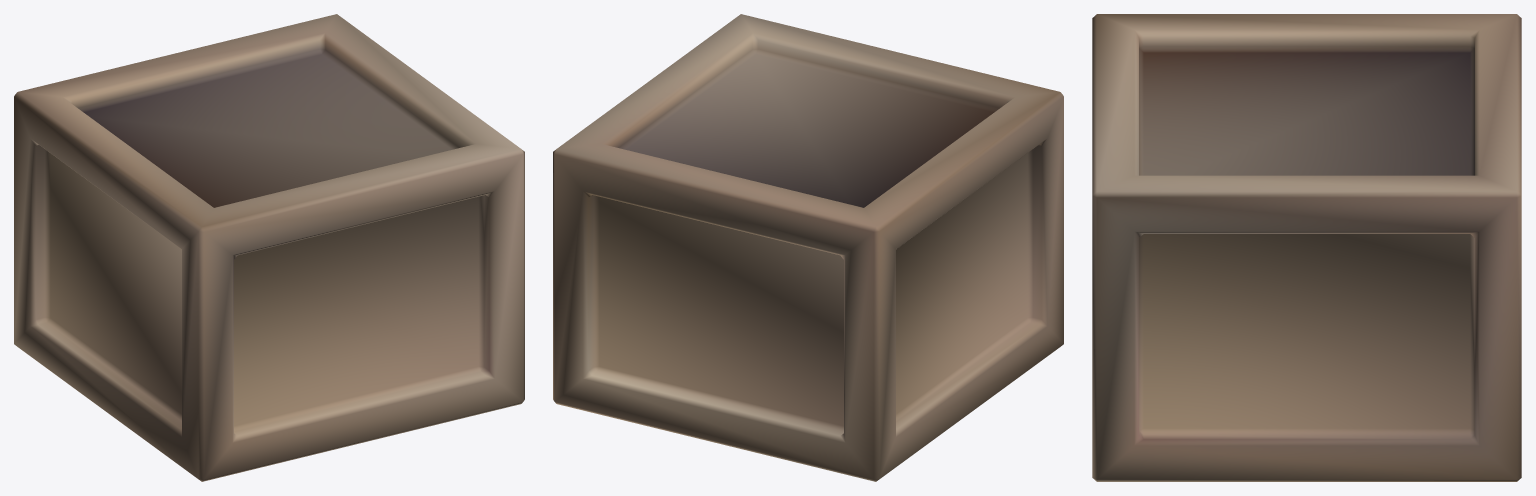
The model's file is wooden-chest.glb.
3 views of the same model, side by side, from view 1: azimuth 30°, elevation 25°; view 2: azimuth 150°, elevation 25°; view 3: azimuth 270°, elevation 25° (orthographic). The views are drawn at different scales.
Visible parts, largest first — view 1: modelo; view 2: modelo; view 3: modelo.
Boxes of the visible parts, x1,y1,x2,y2 form: modelo: (14, 14, 524, 481); modelo: (553, 14, 1063, 481); modelo: (1092, 14, 1521, 481).
Size of the model in its own units: 2 by 1.49 by 2.
